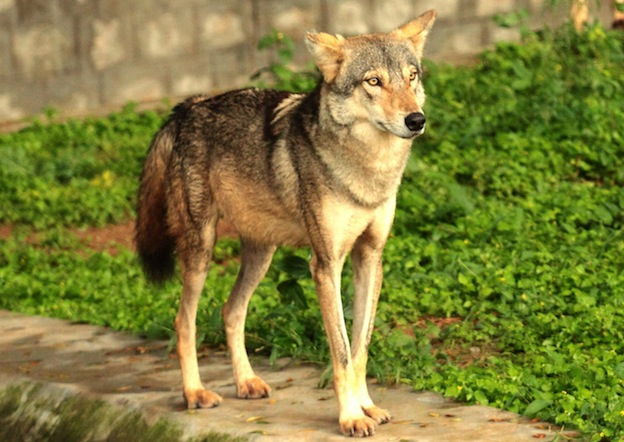wolf: (136, 5, 443, 422)
